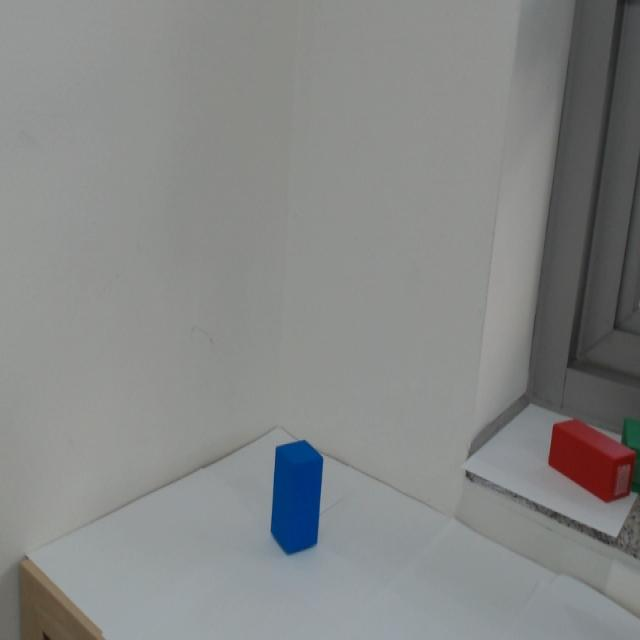cube: (273, 432, 327, 575)
